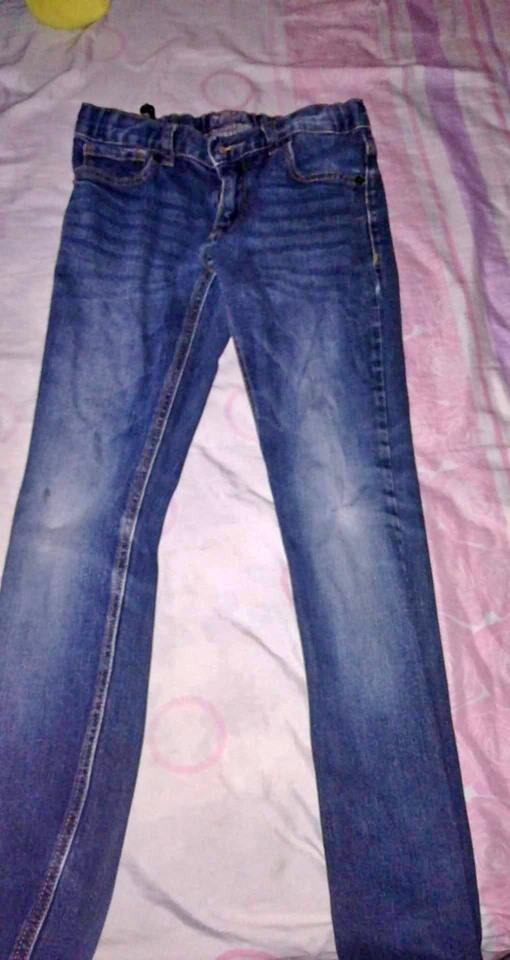jeans: (0, 90, 492, 960)
